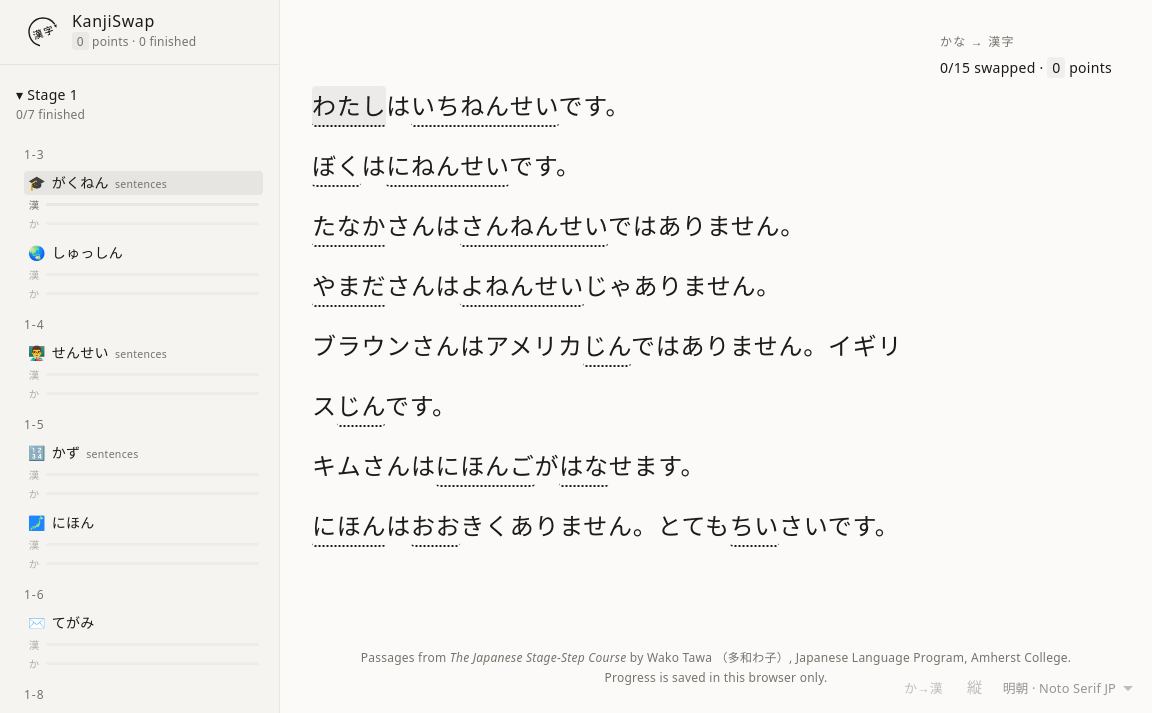
records a correct swap as a scored event
Note: The choices live in a tooltip, so the word has to be hovered first.
Hover over the text "わたし" at (349, 107), box [312,86,386,127]
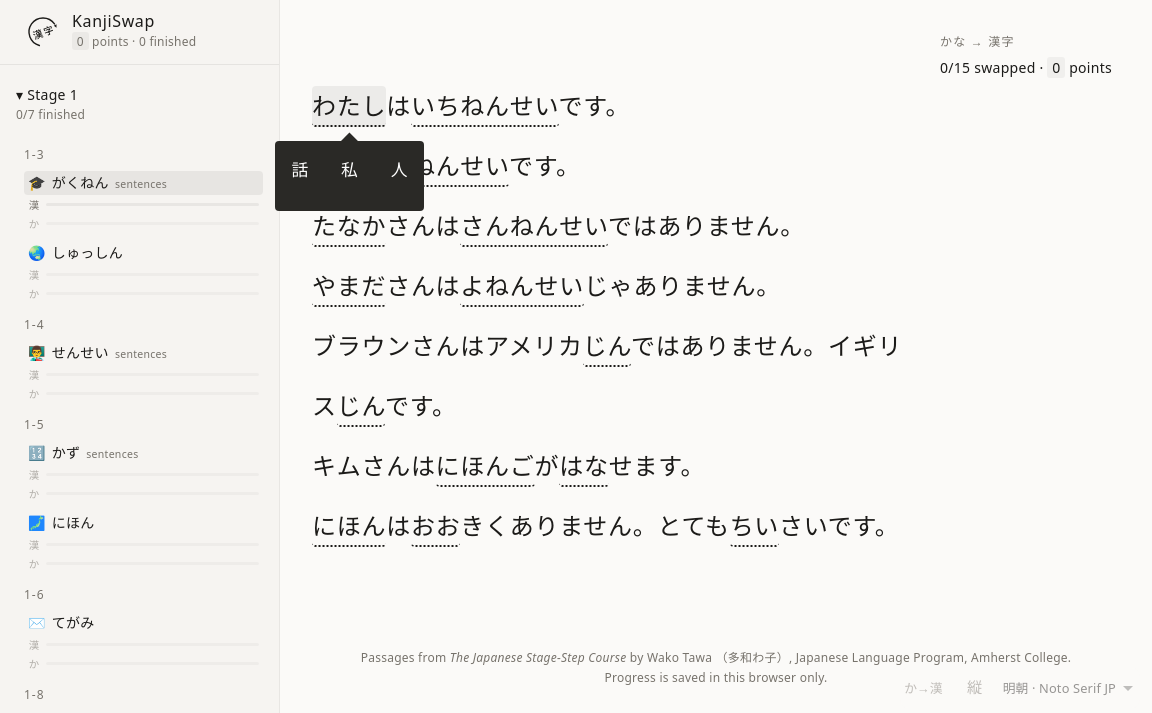
Click the text "私". click: (350, 170)
box: [341,158,358,181]
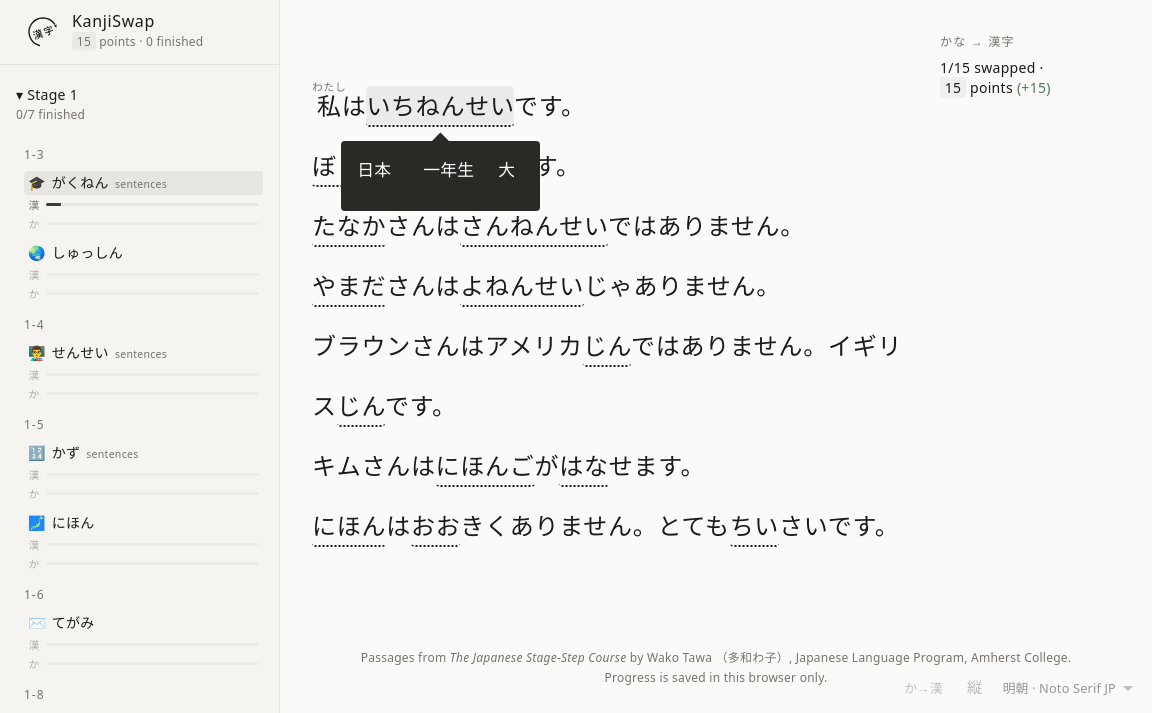
Result: the element showing "私 わたし" is shown at [312,89,342,122]
